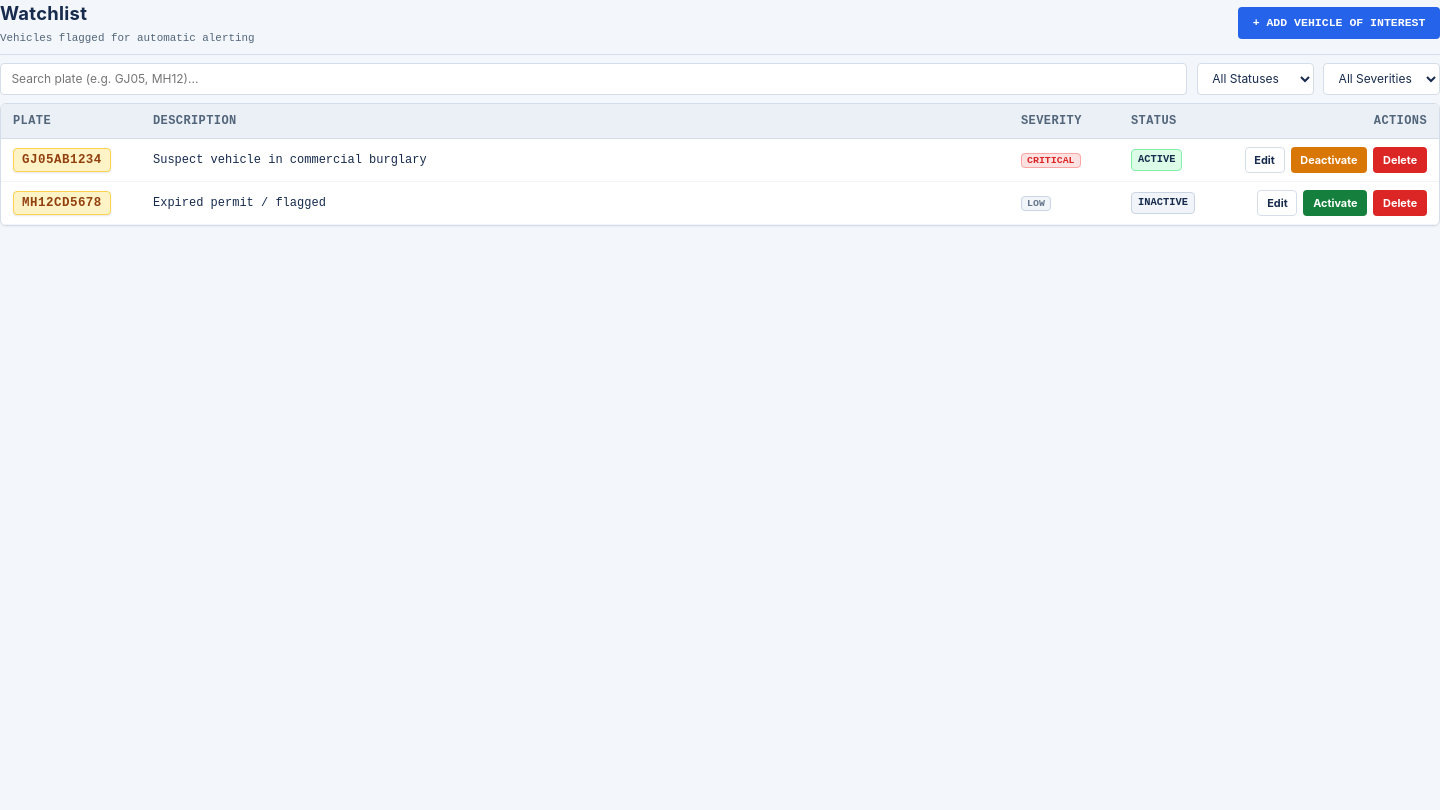
Test case: WatchlistManager Component Tests › 5: Edit modal opens with populated data and submits PATCH /api/watchlist/{id}
Expected: the text "GJ05AB1234" is shown, 13,148 -> 111,172
# Click Edit on first row
Click the button "Edit" in the row of "GJ05AB1234" at (1264,160), box 1244,147 -> 1284,173
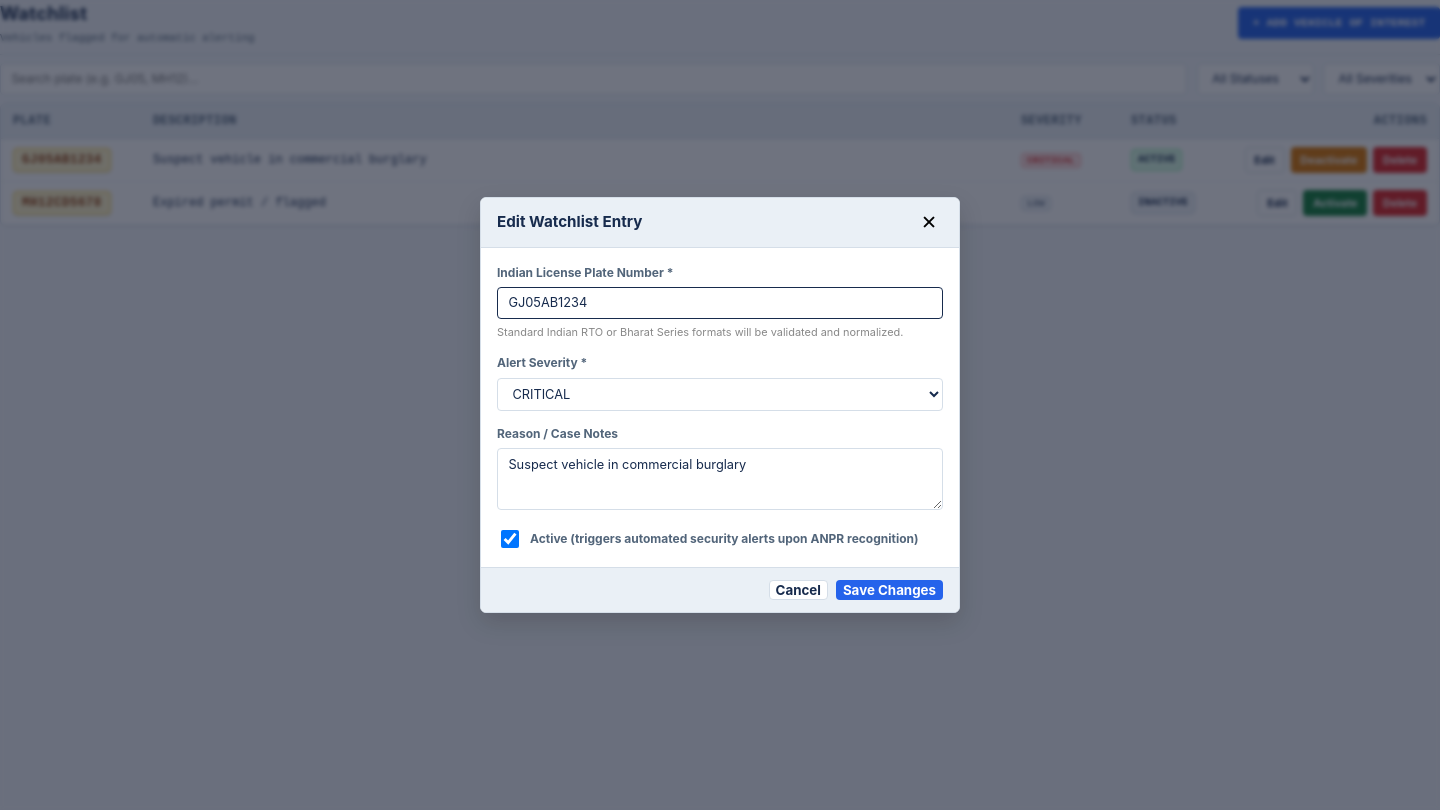
Expected: the heading "Edit Watchlist Entry" is shown, 497,211 -> 642,234
Expected: the text box labelled "Reason / Case Notes" holds "Suspect vehicle in commercial burglary"
# Change description
Replace the text in the text box labelled "Reason / Case Notes" with "Updated case notes" at (720,479), box 497,448 -> 943,510
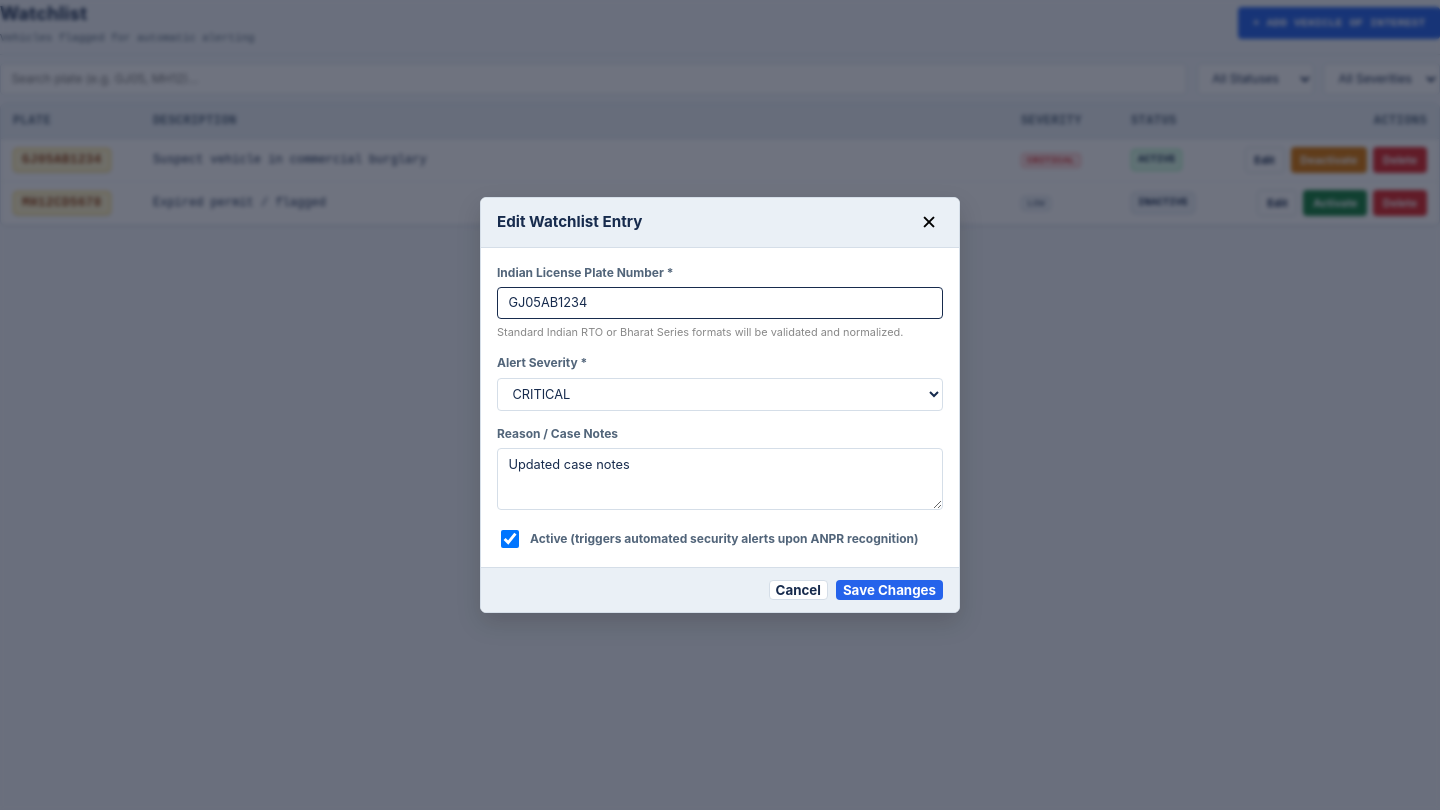
# Submit edit
Click the button "Save Changes" at (889,590), box 836,580 -> 943,600
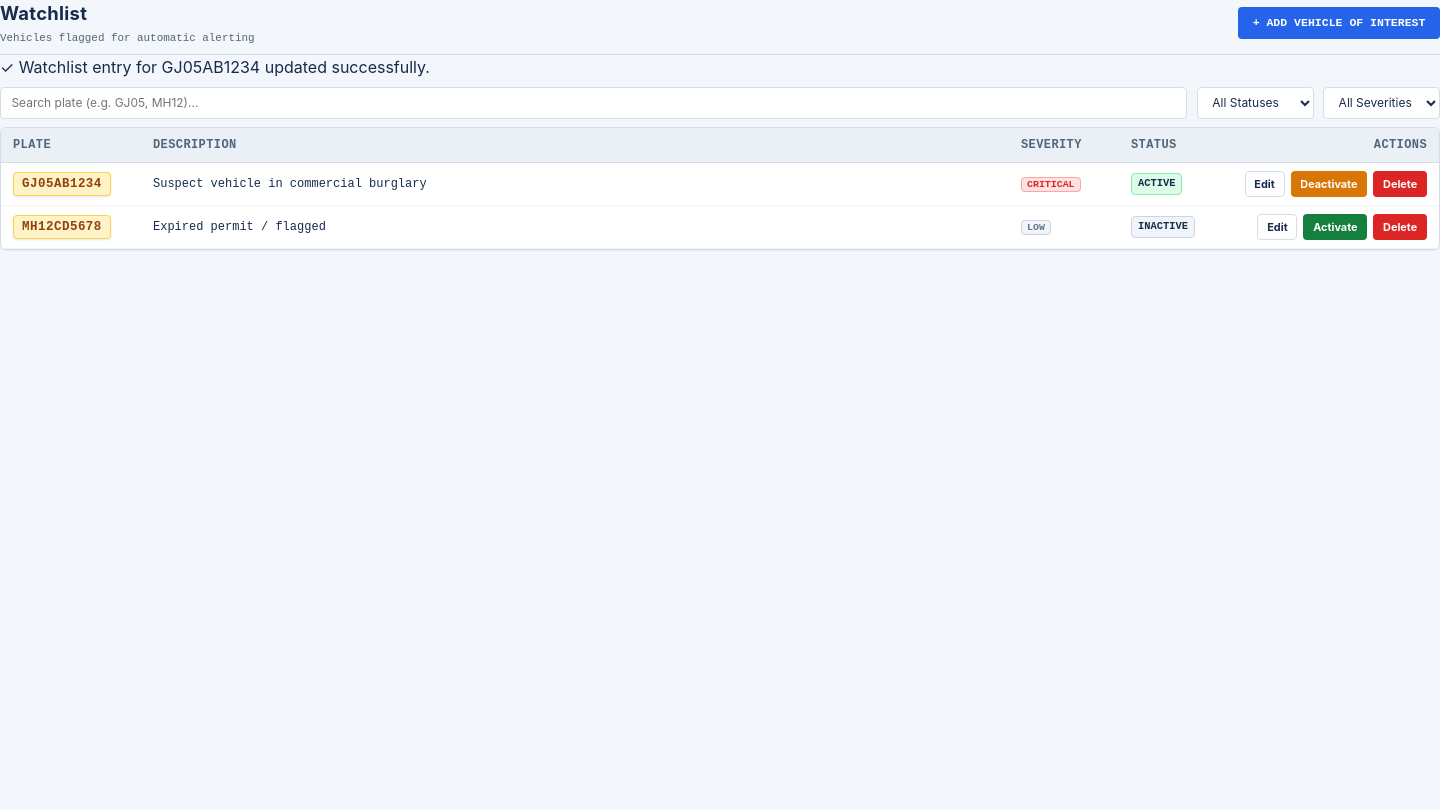
Expected: the text "✓ Watchlist entry for GJ05AB1234 updated successfully." is shown, 0,57 -> 430,77
